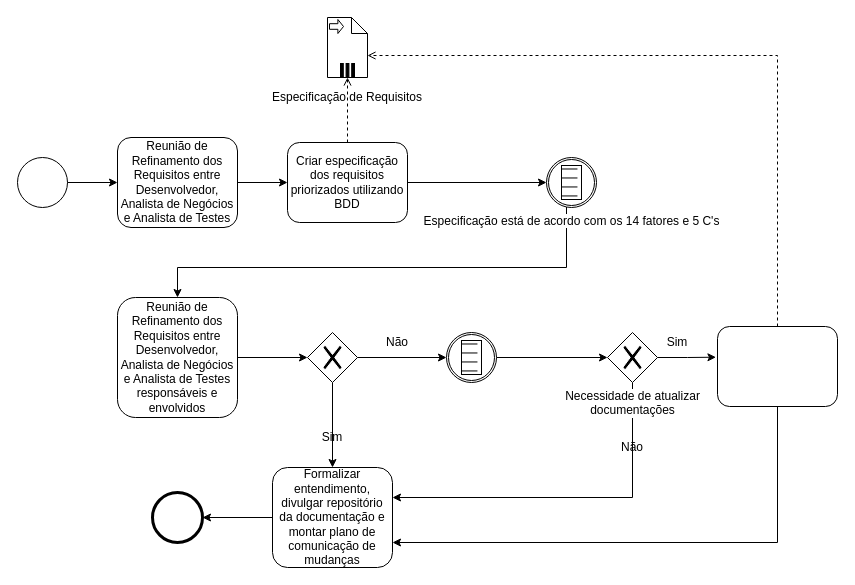
Image size: 855x585. Some labels were removed from this diagram. Each missing label, with the centre of its shape:
Atualizar documentações: the point at 777,366
Entendimento realizado e equalizado: the point at 332,357
Realização de novos alinhamentos e equalização de conhecimento: the point at 471,357
